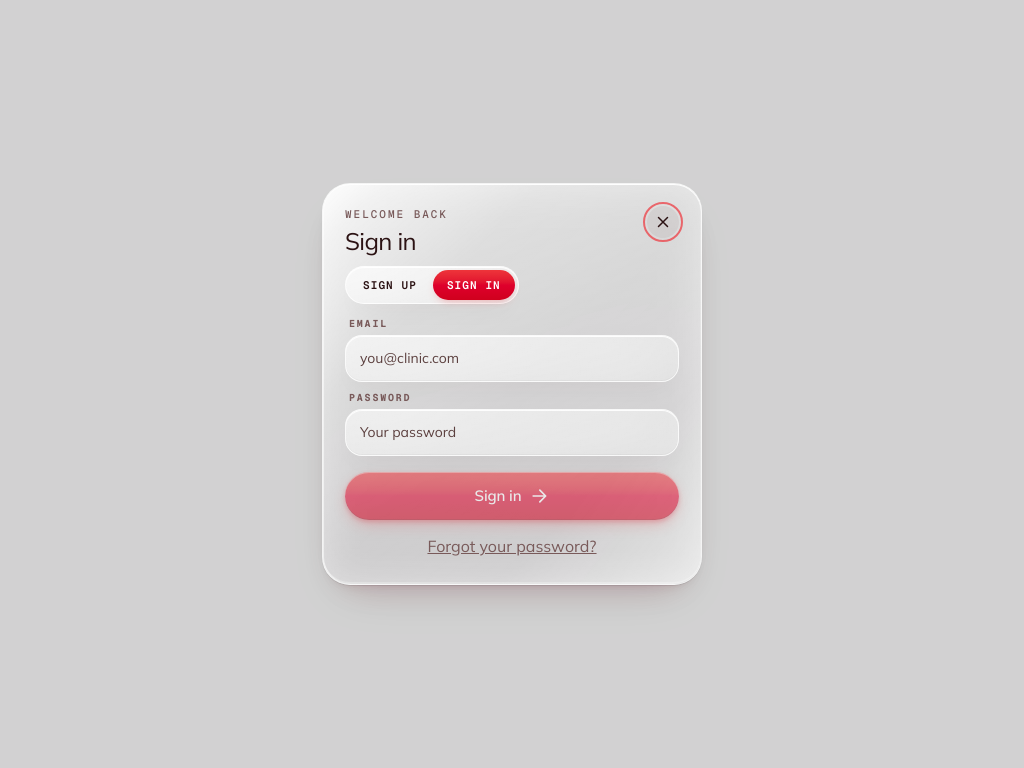
AccountUpgradeModal — email verification (flag on) › routes an unconfirmed sign-in to the inbox pane with a resend affordance
In the field with placeholder "you@clinic.com": (512, 359) [345,335,679,382], type "vet@clinic.com"
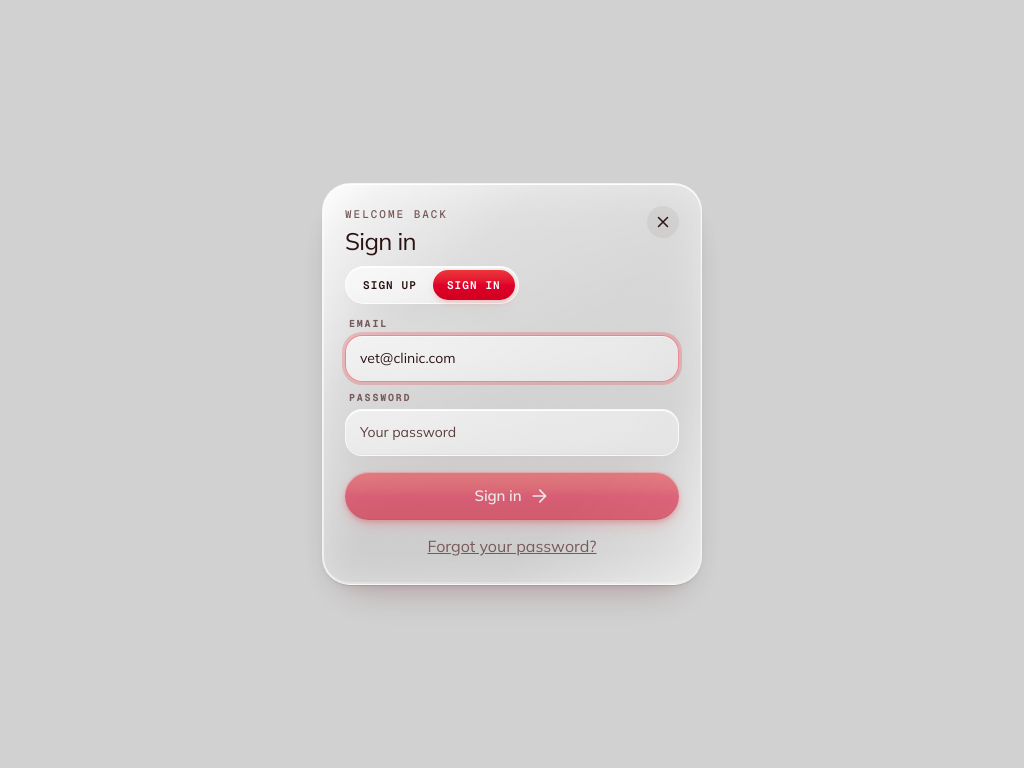
In the password field with placeholder "Your password": (512, 433) [345,409,679,456], type "correct-horse-battery"
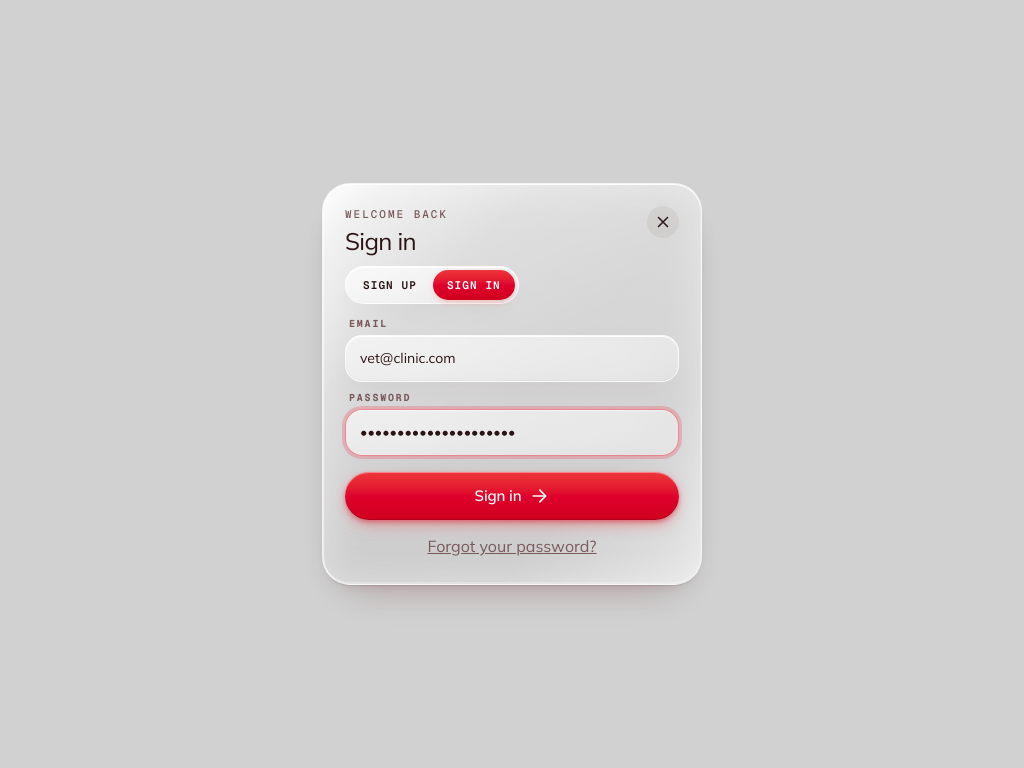
Click the button "Sign in": click(512, 496) [345,472,679,520]
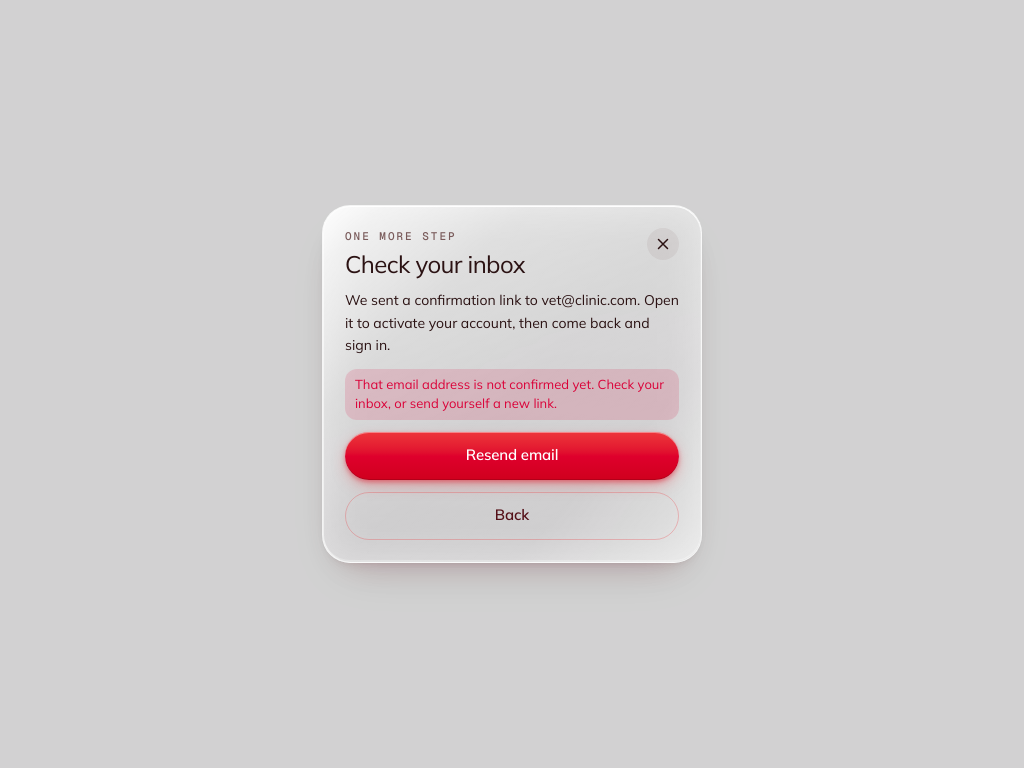
expect the heading "Check your inbox" is shown: met, box [345,251,525,277]
expect the message shows "not confirmed yet": met, box [355,376,664,411]
expect the button "Resend email" is enabled: met, box [345,432,679,480]
